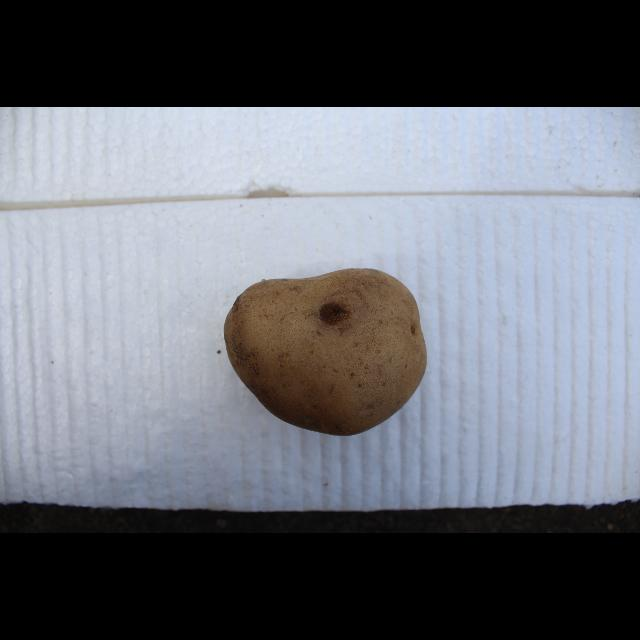Damaged potato: (208, 200, 418, 374)
